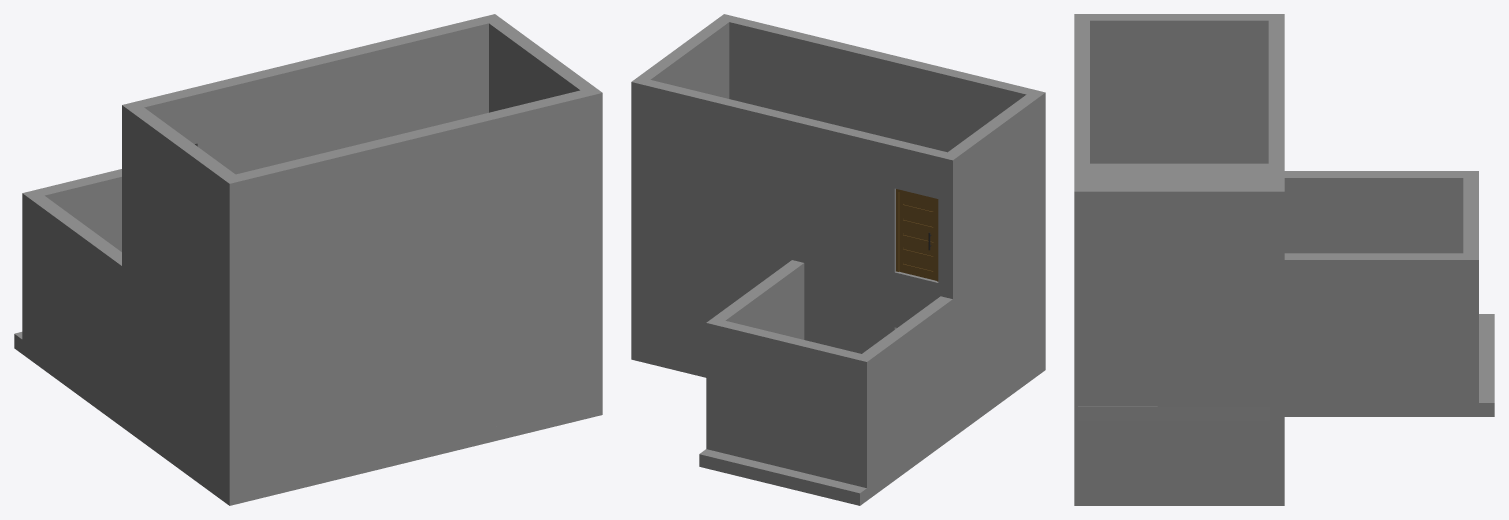
File: MSH_Stairs_Basement.fbx
3 renders of one model, left to right at view 1: azimuth 30°, elevation 25°; view 2: azimuth 150°, elevation 25°; view 3: azimuth 270°, elevation 25°, orthographic. The views are drawn at different scales.
Parts seen in each view (by area): view 1: MSH_Stairs_Basement; view 2: MSH_Stairs_Basement, MSH_Door_Single016, MSH_DoorFrame_Single016; view 3: MSH_Stairs_Basement.
Boxes of the visible parts, left/top/right/bottom form: MSH_Stairs_Basement: left=14, top=14, right=602, bottom=505; MSH_Stairs_Basement: left=631, top=14, right=1045, bottom=505; MSH_Door_Single016: left=899, top=192, right=936, bottom=280; MSH_DoorFrame_Single016: left=896, top=189, right=938, bottom=281; MSH_Stairs_Basement: left=1074, top=14, right=1494, bottom=505.
Bounding box in the file's own units: 316 × 260 × 315.
